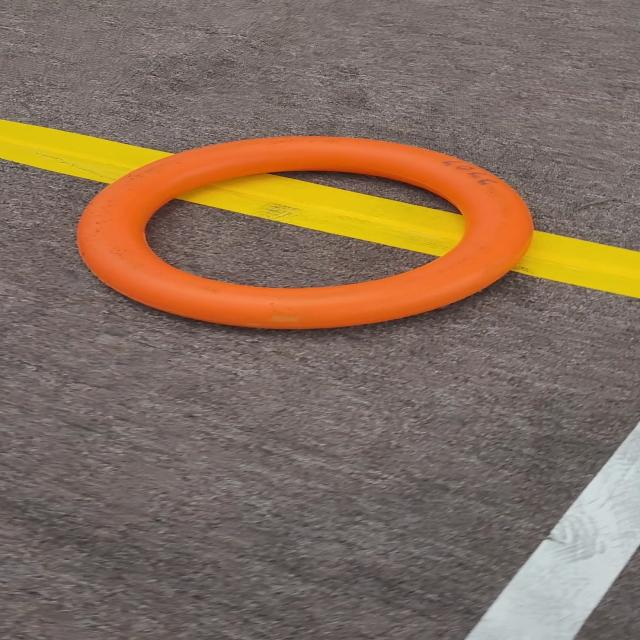note: (57, 127, 557, 336)
